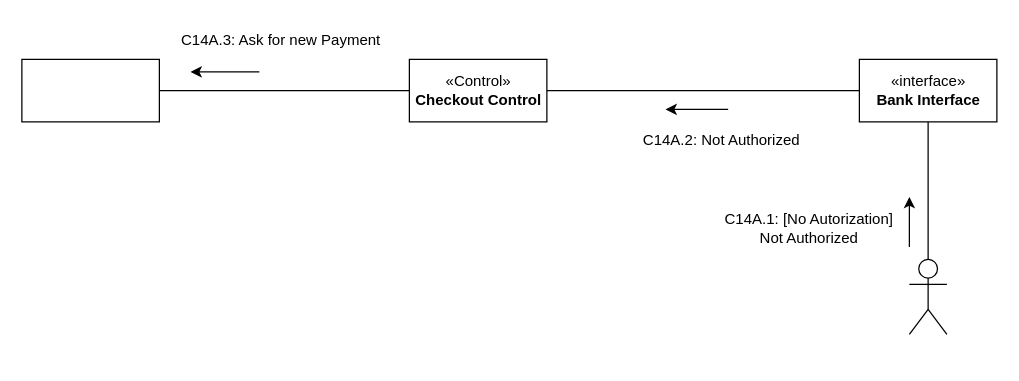
Image size: 1019x381. Some labels were removed from this diagram. The centre of each missing label's shape, as x and y in pixels:
Bank: pixel 927 296
«interface» Register Display: pixel 90 90
